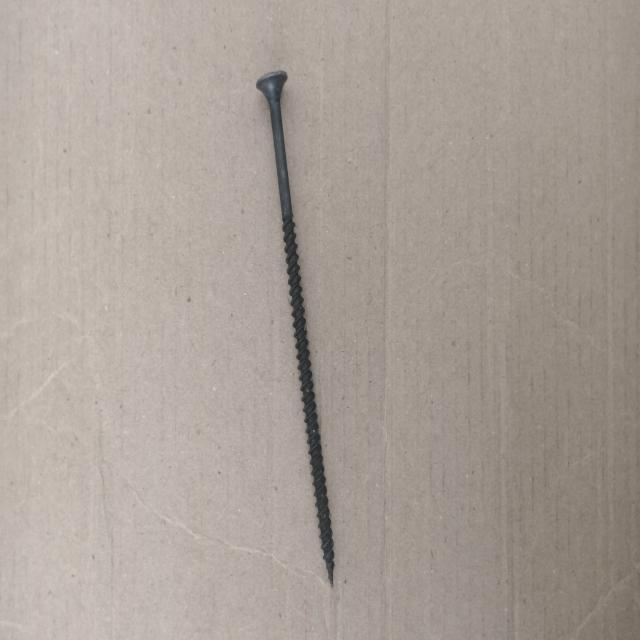screw: (256, 70, 335, 591)
